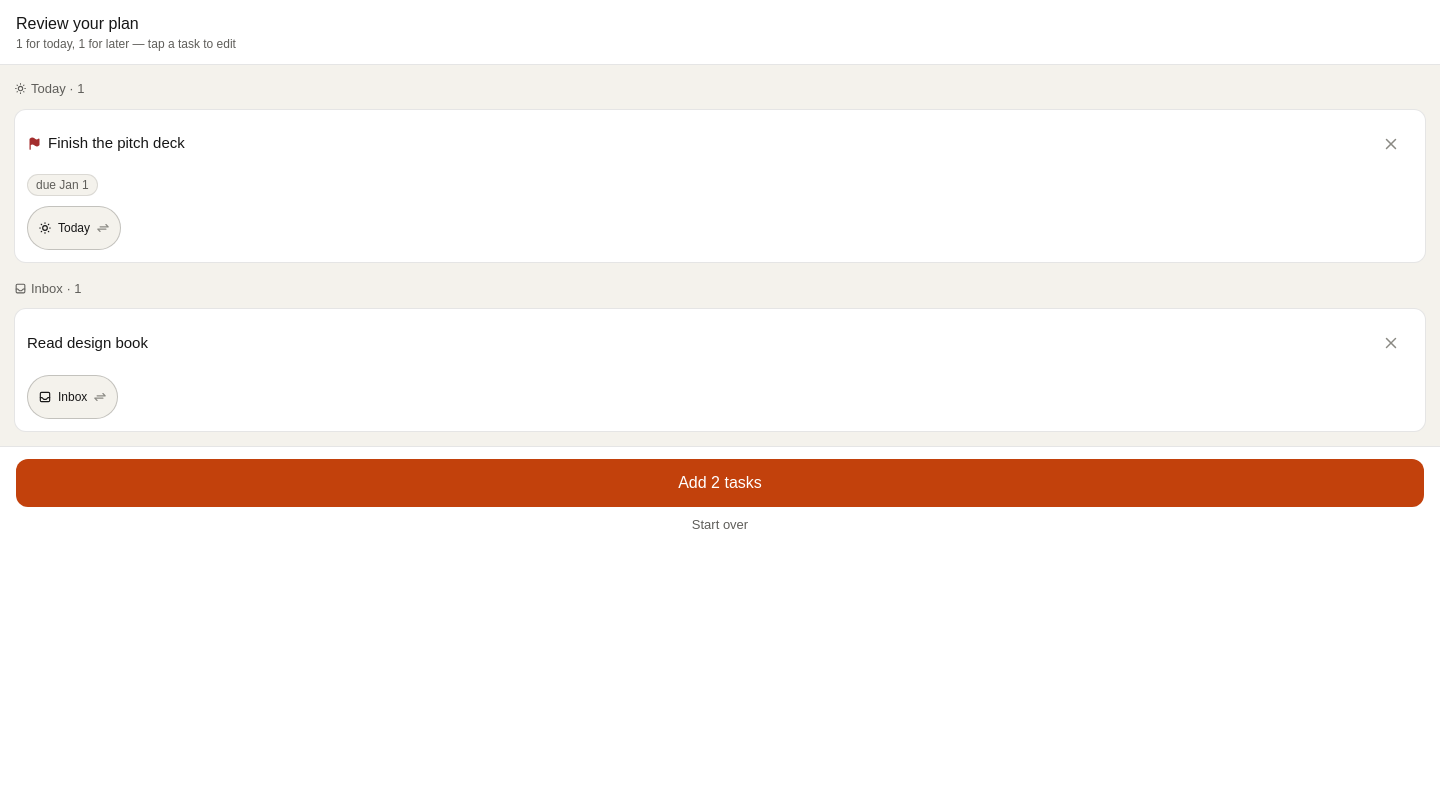
Test: ReviewScreen › opens the editor from a whole-card affordance, not just the title text
Click the button named "edit finish the pitch deck". click: coordinates (720, 186)
box: [15, 110, 1425, 262]
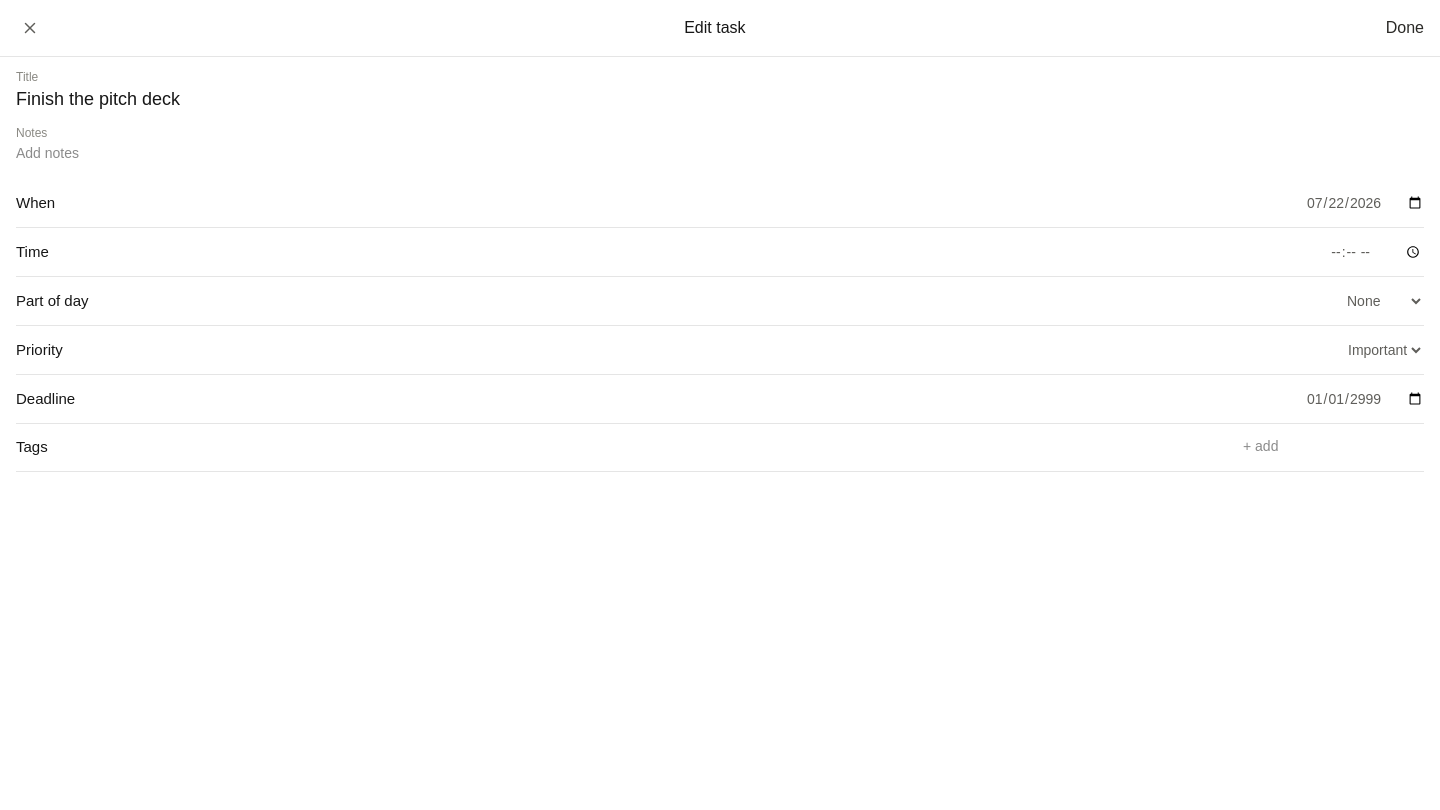
Replace the text in the field labelled "Title" with "Finalize the pitch deck". click: coordinates (720, 99)
box: [16, 85, 1424, 113]
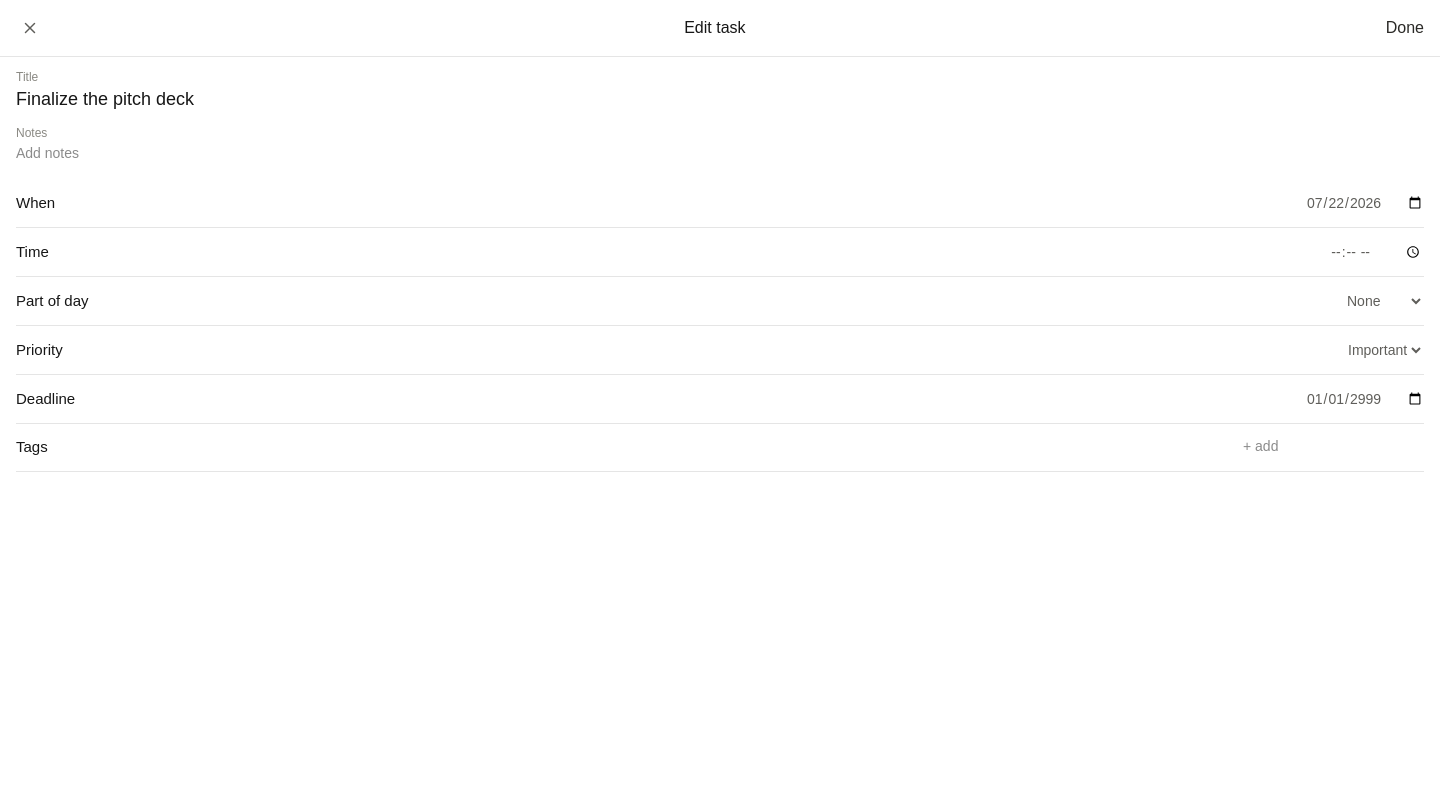
Click the button "Done". click: coordinates (1405, 28)
box: [1378, 6, 1432, 50]
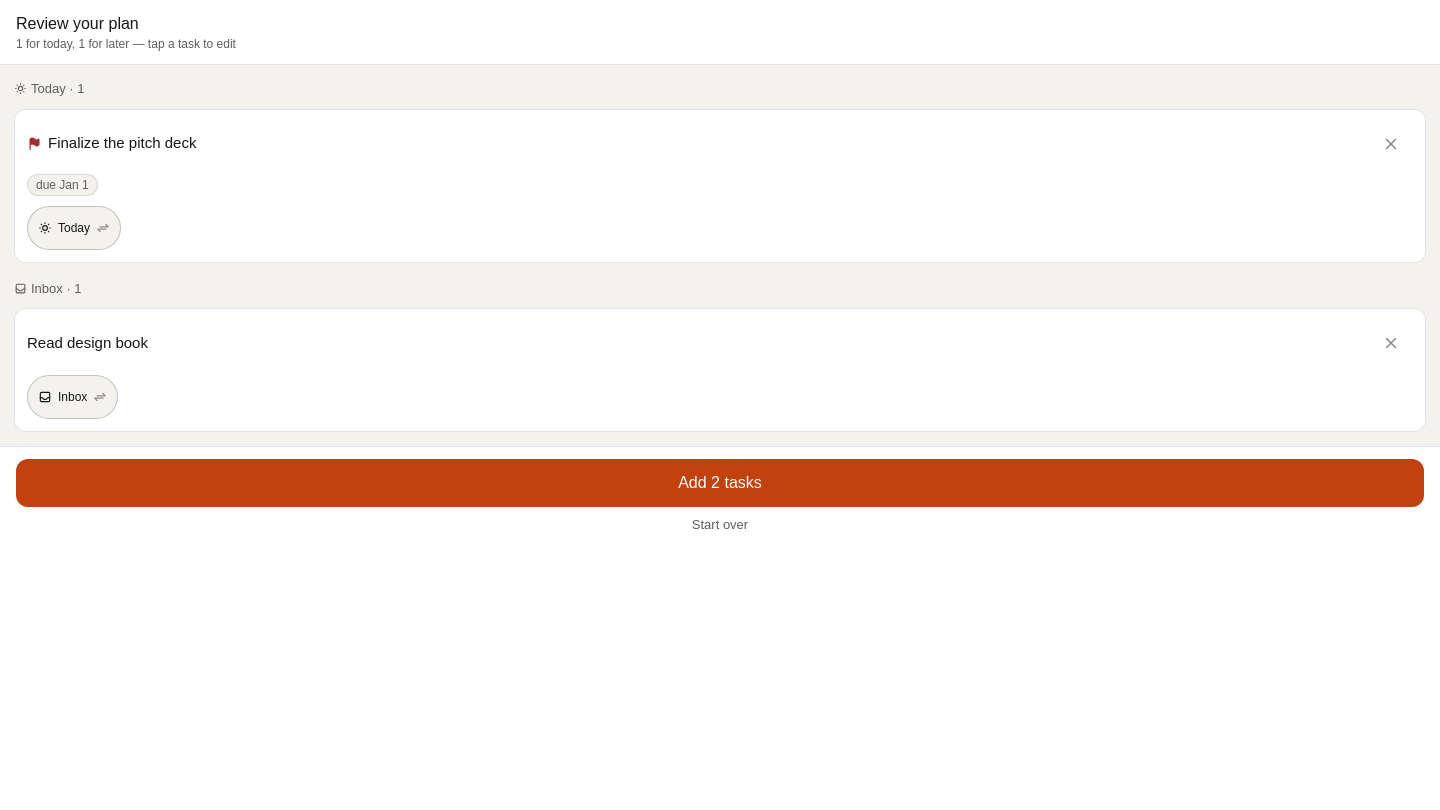
expect the text "Finalize the pitch deck" is shown: met, box [27, 134, 196, 151]
